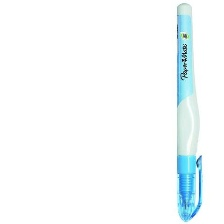correction_fluid: (172, 0, 204, 224)
